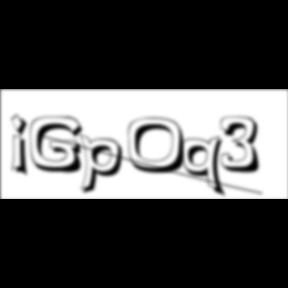3: (221, 116, 267, 176)
G: (31, 116, 90, 176)
O: (128, 117, 192, 176)
i: (11, 112, 35, 180)
p: (80, 132, 130, 198)
q: (180, 135, 230, 200)
